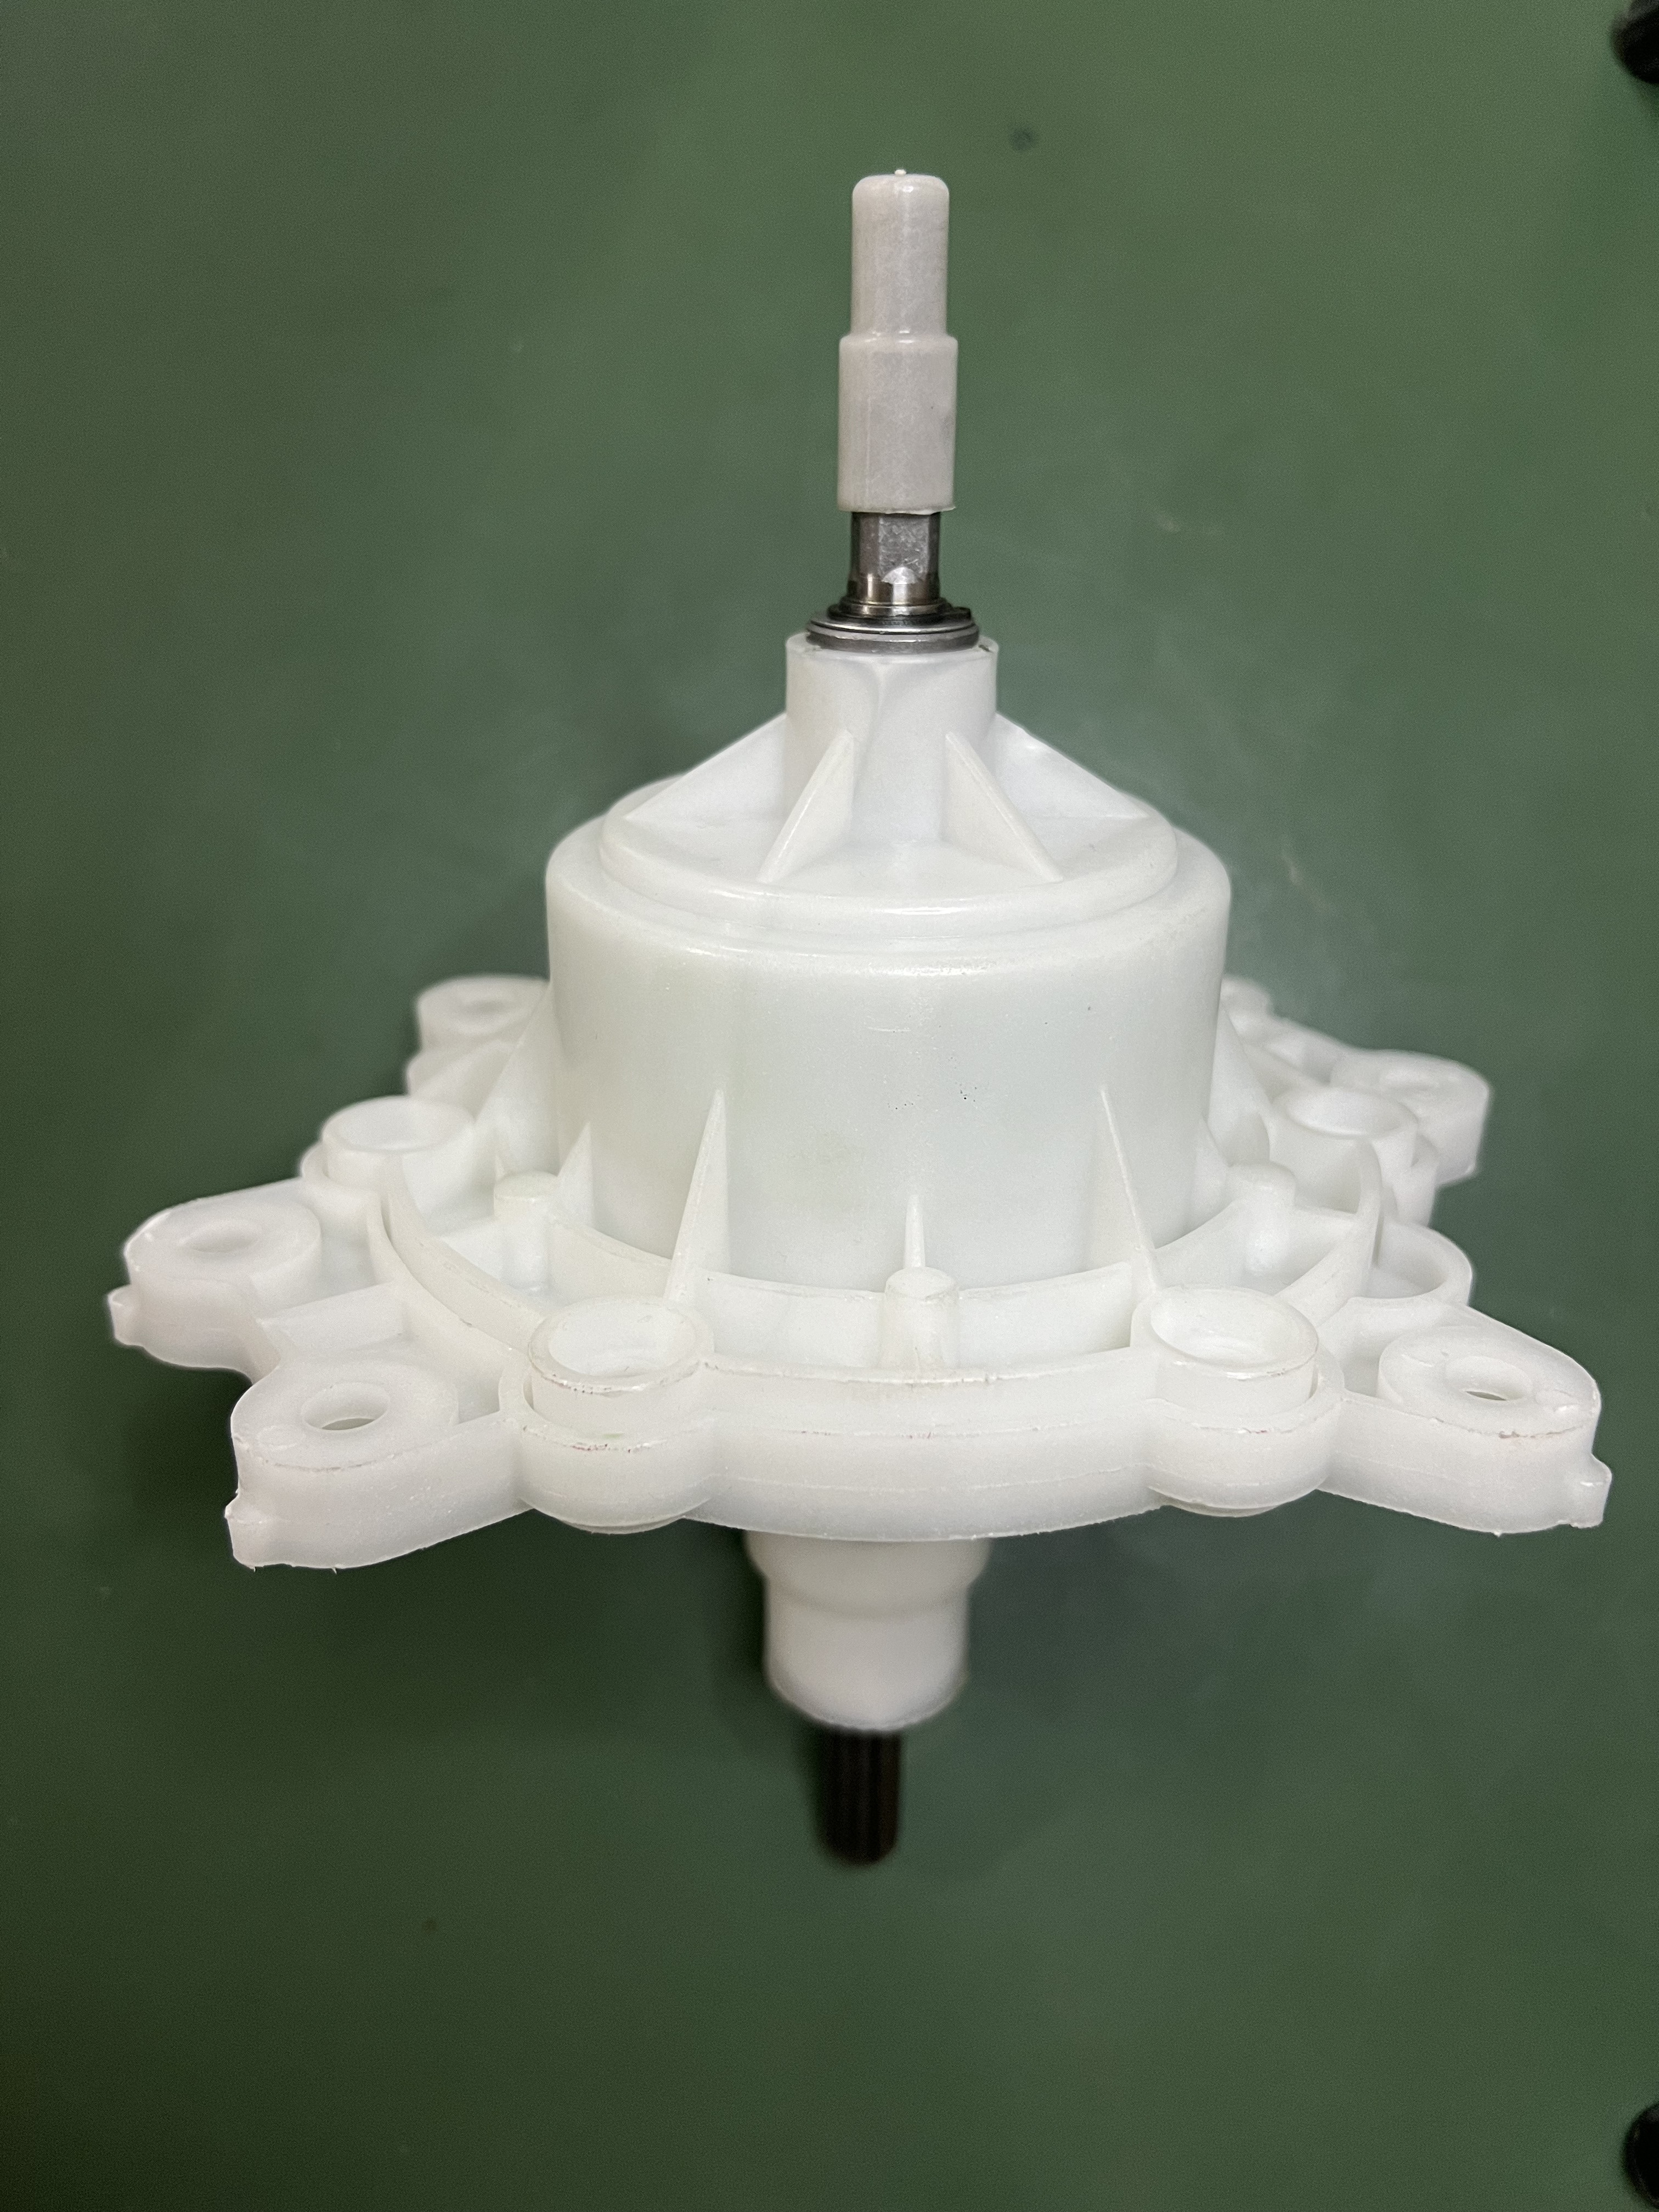gear_box_design: (112, 174, 1624, 1860)
